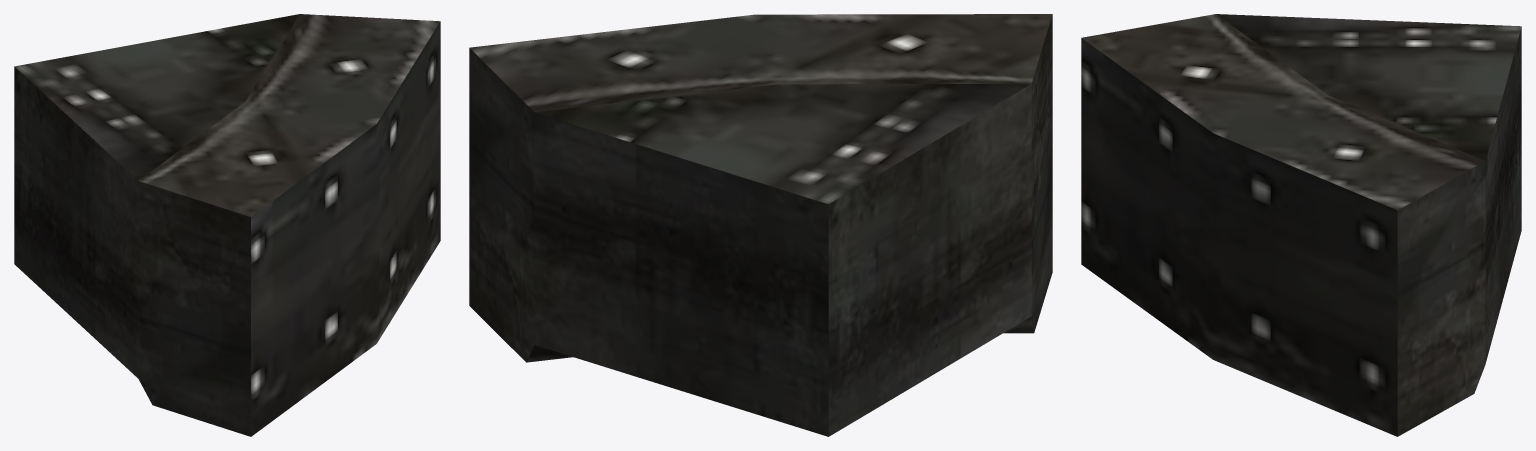
Rendered from piece01_07.glb.
The picture shows the model from 3 angles, left to right: view 1: azimuth 30°, elevation 25°; view 2: azimuth 150°, elevation 25°; view 3: azimuth 270°, elevation 25°; orthographic projection. The views are drawn at different scales.
Visible parts, largest first — view 1: model_piece01_07; view 2: model_piece01_07; view 3: model_piece01_07.
Boxes of the visible parts, box(x1,y1,x2,y2) form: model_piece01_07: box(14, 14, 440, 436); model_piece01_07: box(469, 14, 1052, 436); model_piece01_07: box(1081, 14, 1521, 436).
Size of the model in its own units: 0.948 by 0.5103 by 0.8987.
Materials: 1 (1 with a texture image).
